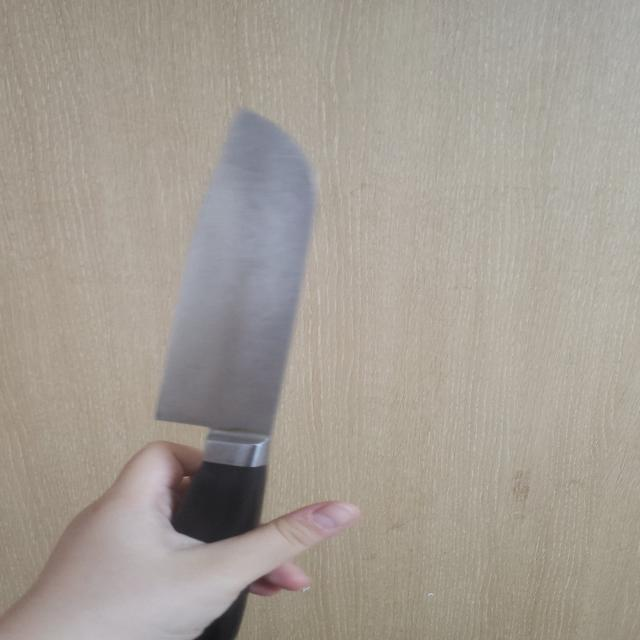knife: (155, 108, 318, 640)
